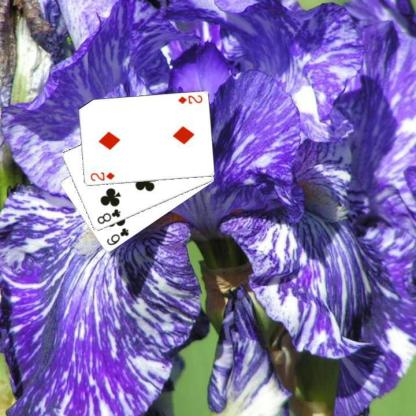2D: (88, 170, 115, 182), (176, 93, 203, 105)
6C: (104, 225, 130, 247)
8C: (94, 207, 122, 226)
